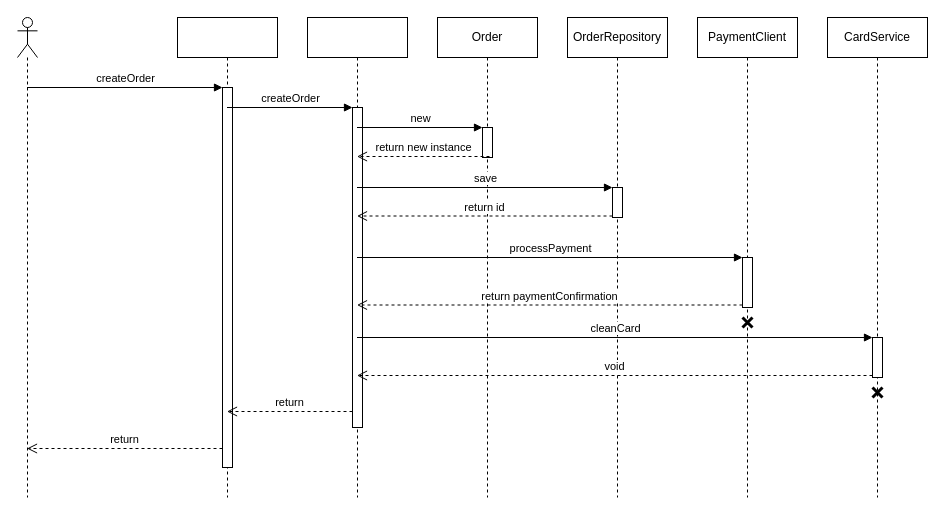
This 945x515 diagram has some shape labels left out. The shapes that lost their labels are listed below. From the top down, each one's box as (x1, y1, x2, y2) in pixels, then its label:
(176, 16, 278, 498): OrderController
(306, 16, 408, 498): OrderService
